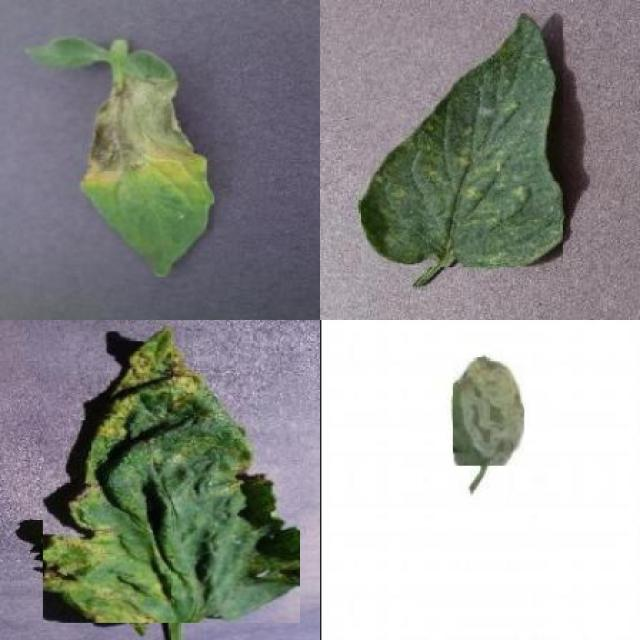Late Blight: (20, 35, 214, 278)
Leaf Miner: (454, 357, 525, 466)
Septoria: (43, 326, 300, 623)
Spider Mites: (360, 13, 563, 268)
